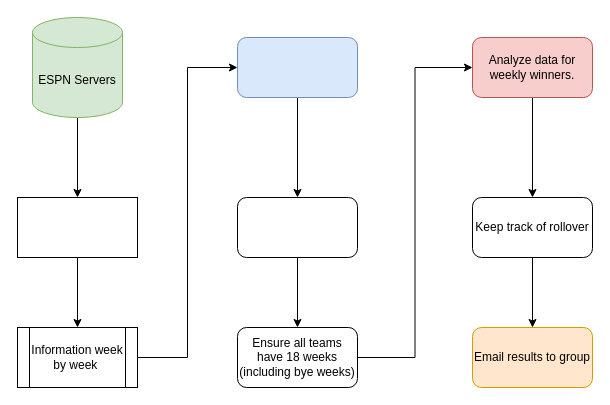
Some shapes in this 610 by 405 pixel diagram are drawn without their labels. The shapes that lost their labels are listed below. From the top down, each one's centre as x and y in pixels, then its label:
(297,67): Process raw data
(77,227): Grab data using ESPN API
(297,227): By week, populate team with data.
